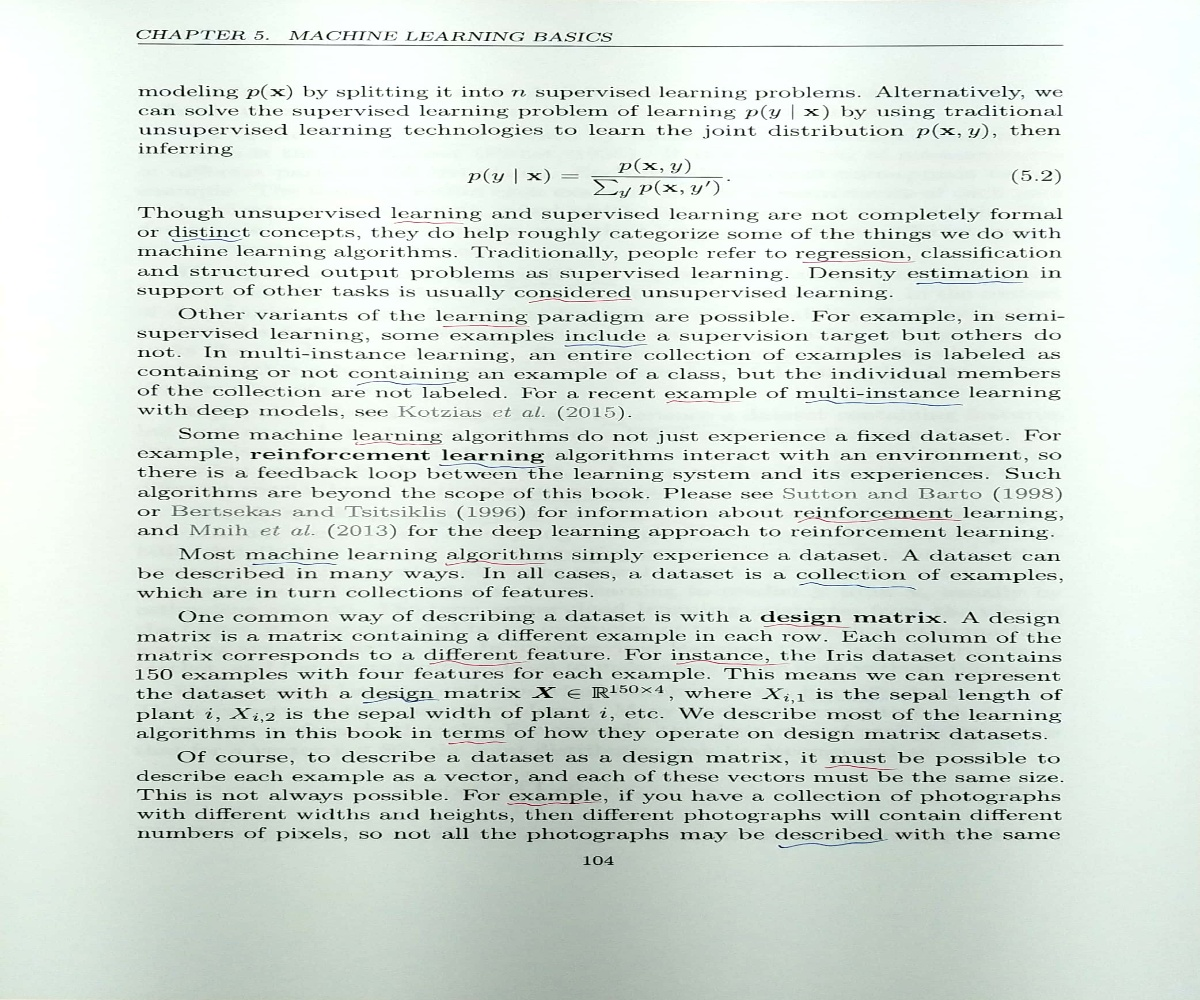underline: (796, 579, 921, 595), (803, 397, 966, 408), (775, 838, 891, 850), (793, 516, 966, 524), (436, 459, 551, 470), (798, 258, 921, 267), (352, 378, 459, 388), (443, 558, 543, 568), (524, 295, 634, 304), (915, 278, 1024, 287), (251, 559, 339, 569), (822, 762, 893, 774), (561, 340, 646, 350), (664, 397, 744, 407), (674, 659, 787, 666), (761, 622, 855, 630), (424, 660, 531, 667), (392, 217, 470, 226), (360, 696, 441, 704), (441, 321, 530, 328), (352, 439, 441, 446), (444, 736, 511, 745), (504, 800, 603, 806), (170, 236, 241, 243)
